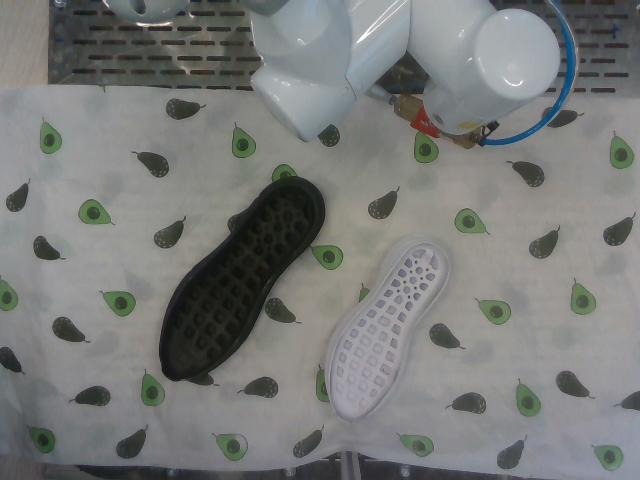shoes: (161, 184, 315, 380), (330, 243, 449, 422)
